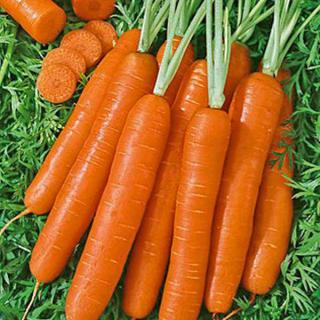Wortel: (13, 17, 315, 312)
